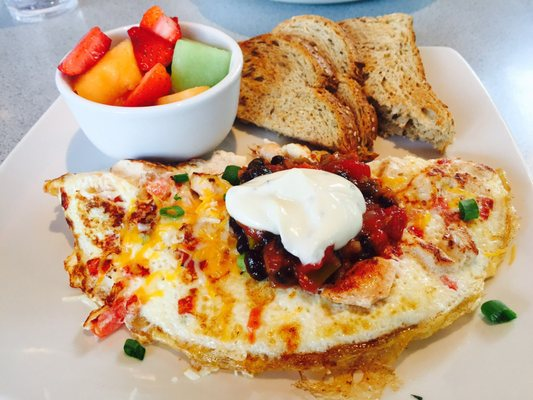pizza: (0, 0, 79, 26)
soup: (54, 144, 512, 398)
sushi: (55, 4, 243, 164)
